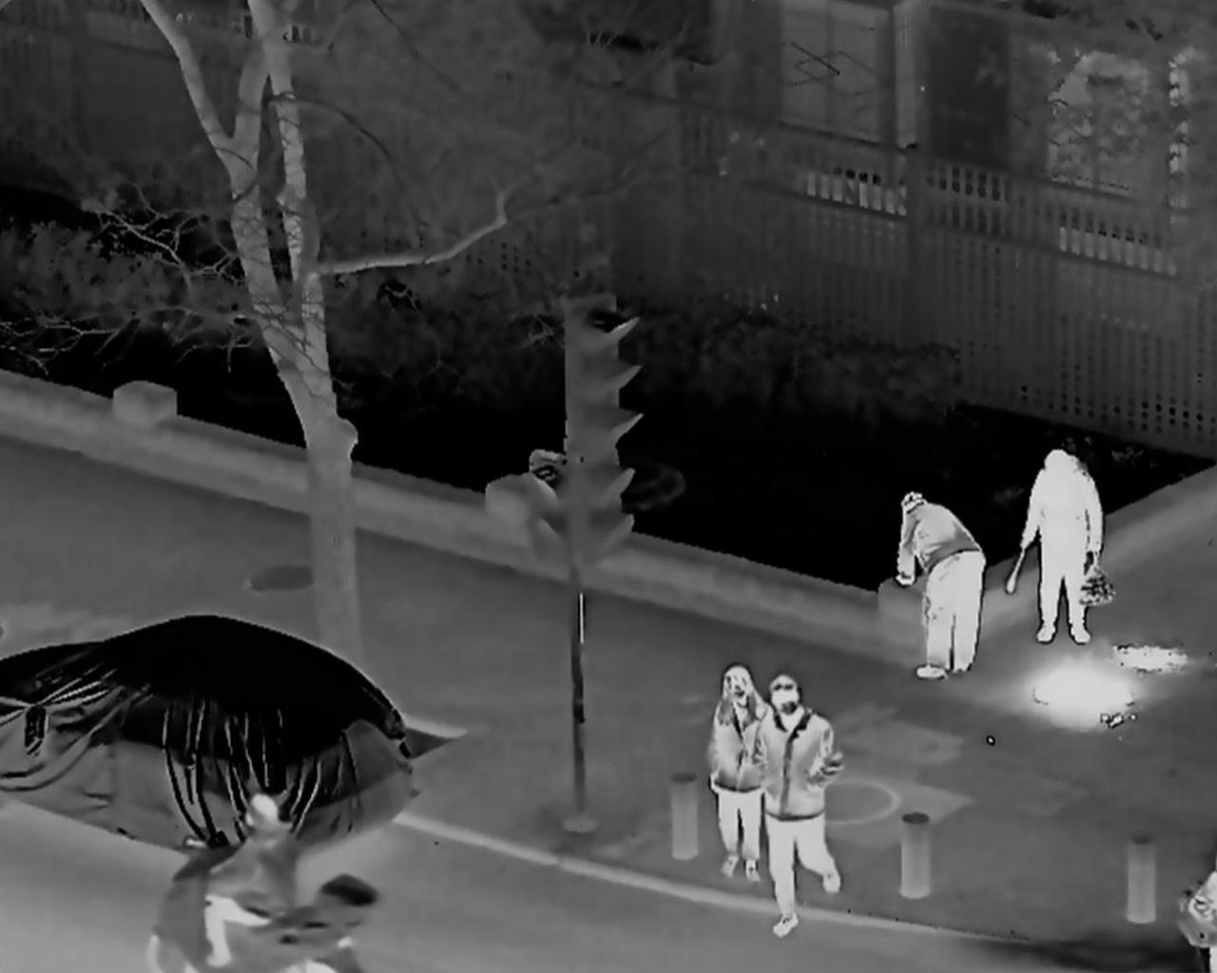person: (754, 671, 843, 937), (191, 792, 299, 958), (898, 489, 984, 680), (1024, 448, 1105, 643), (708, 663, 764, 889)
